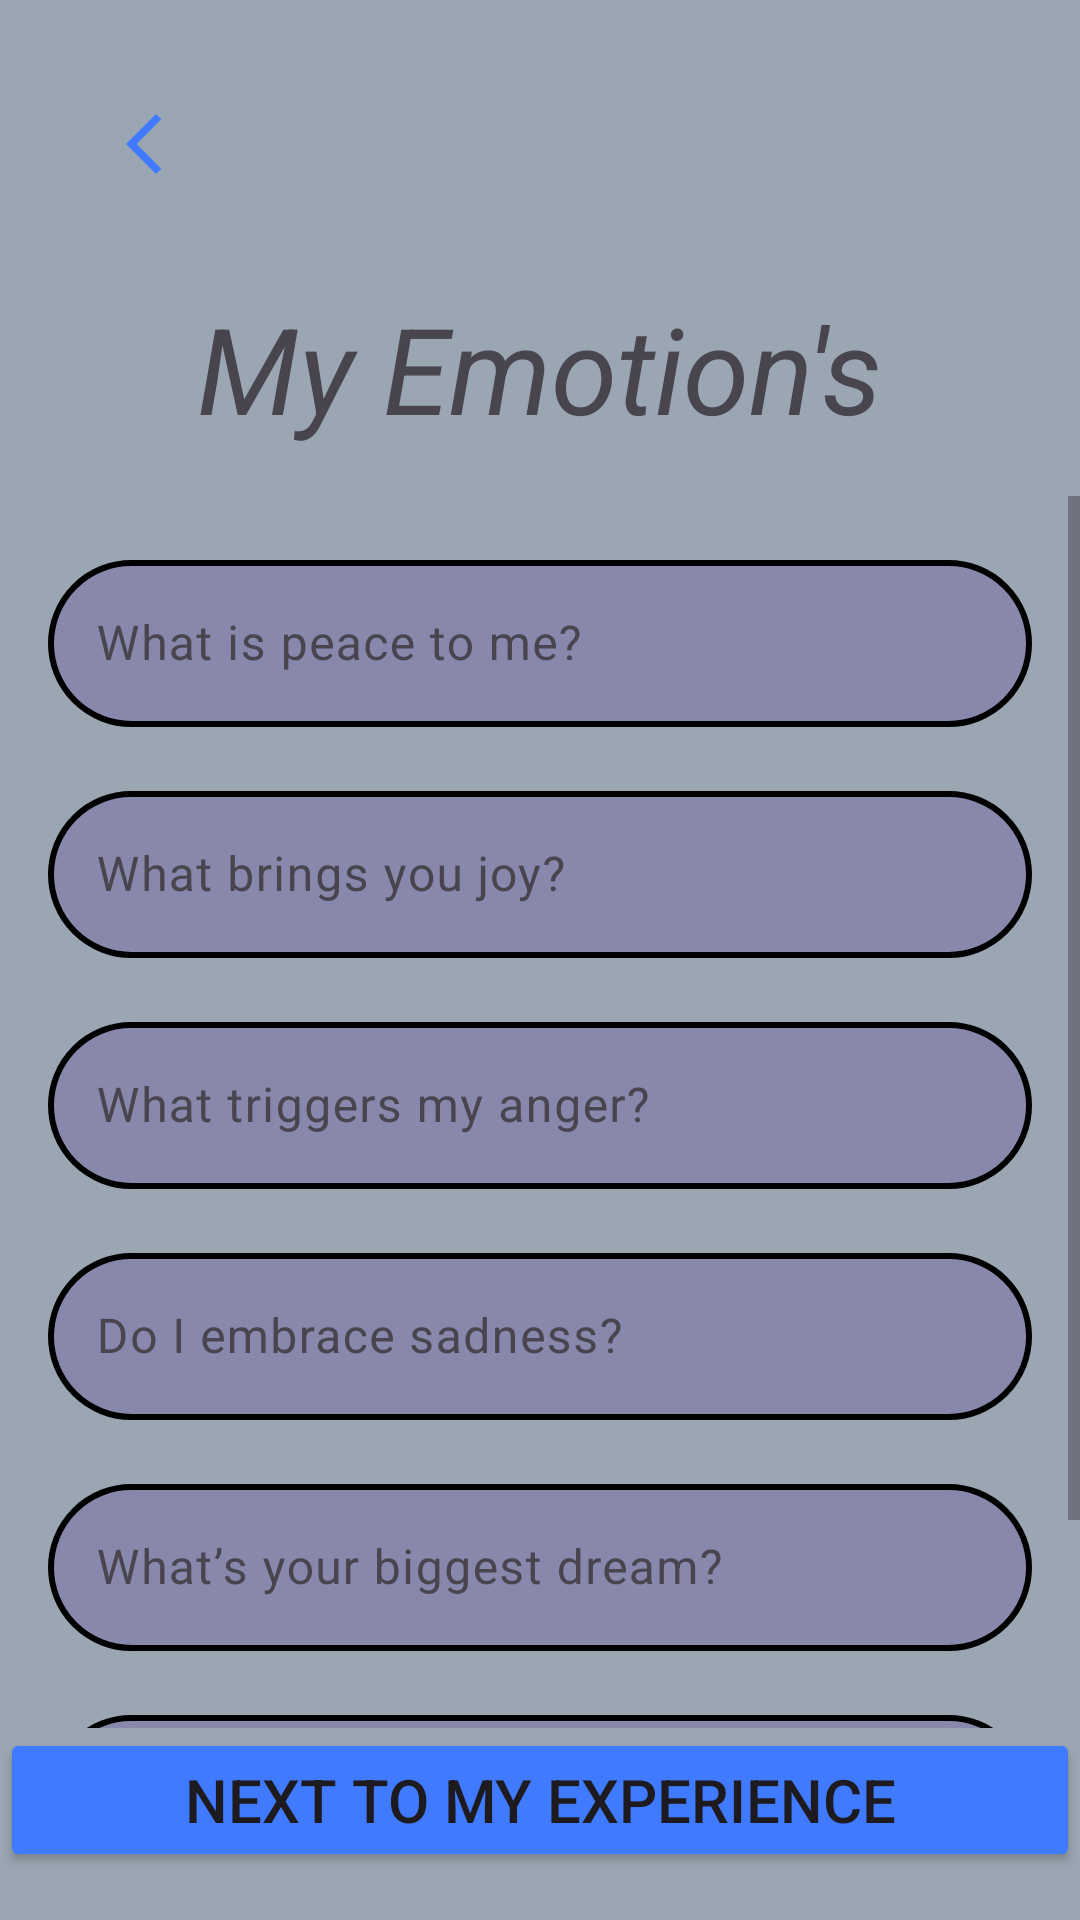

Named icons in this screenshot (1080*1920) and their bounding boxes, [x1, y1, x2, y2]:
Back button: [126, 114, 161, 174]
